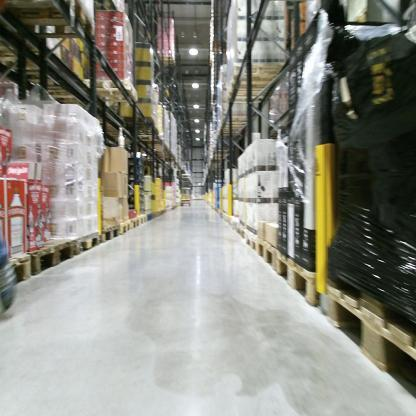pallets: (9, 211, 149, 285), (322, 278, 415, 378), (228, 219, 325, 312)
